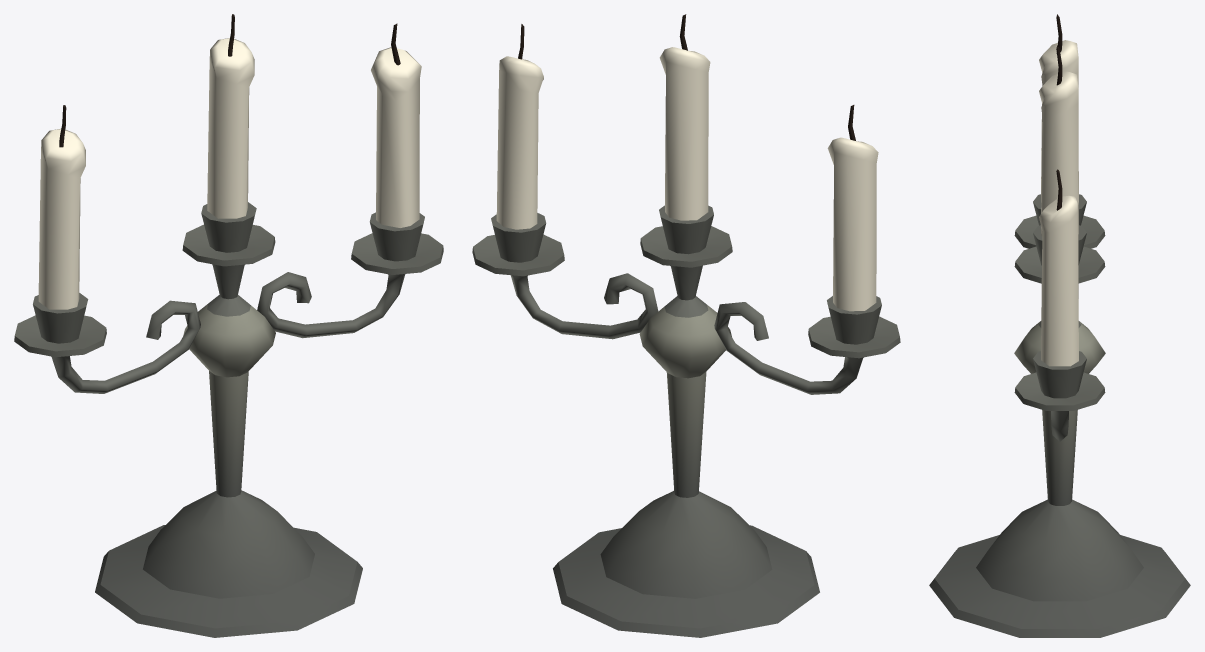
The model's file is Candelabrum_A.fbx.
3 renders of one model, left to right at view 1: azimuth 30°, elevation 25°; view 2: azimuth 150°, elevation 25°; view 3: azimuth 270°, elevation 25°, orthographic. The views are drawn at different scales.
Visible parts, largest first — view 1: Candelabrum_A; view 2: Candelabrum_A; view 3: Candelabrum_A.
Part boxes in pixels (x1=…): Candelabrum_A: x1=14, y1=14, x2=443, y2=637; Candelabrum_A: x1=472, y1=14, x2=900, y2=637; Candelabrum_A: x1=929, y1=14, x2=1190, y2=637.
Bounding box in the file's own units: 54.95 × 71.74 × 31.46.
